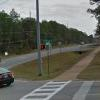Crosswalk: (26, 72, 65, 100)
